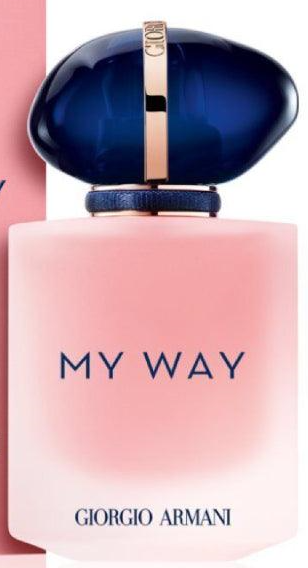armani_my_way_floral: (5, 11, 304, 560)
